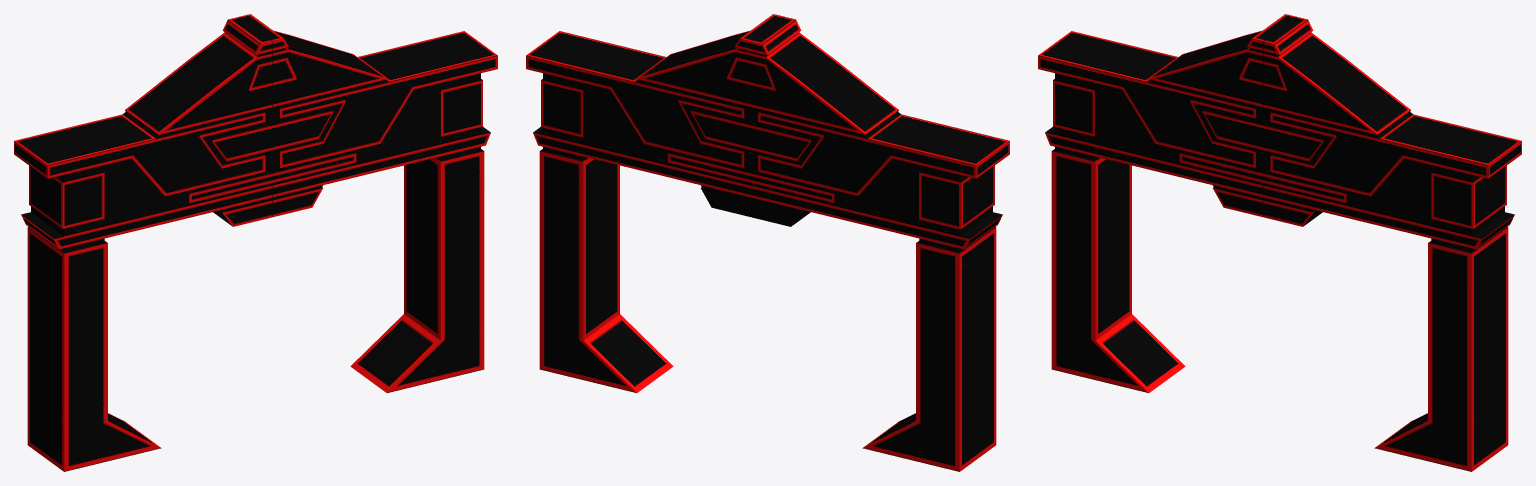
Rendered from The Recognizer.fbx.
3 renders of one model, left to right at view 1: azimuth 30°, elevation 25°; view 2: azimuth 150°, elevation 25°; view 3: azimuth 330°, elevation 25°, orthographic.
Visible parts, largest first — view 1: Body; view 2: Body; view 3: Body.
Boxes of the visible parts, box(x1,y1,x2,y2) form: Body: box(14, 14, 497, 471); Body: box(526, 14, 1009, 471); Body: box(1038, 14, 1521, 471).
Bounding box in the file's own units: 1550 × 1244 × 218.
